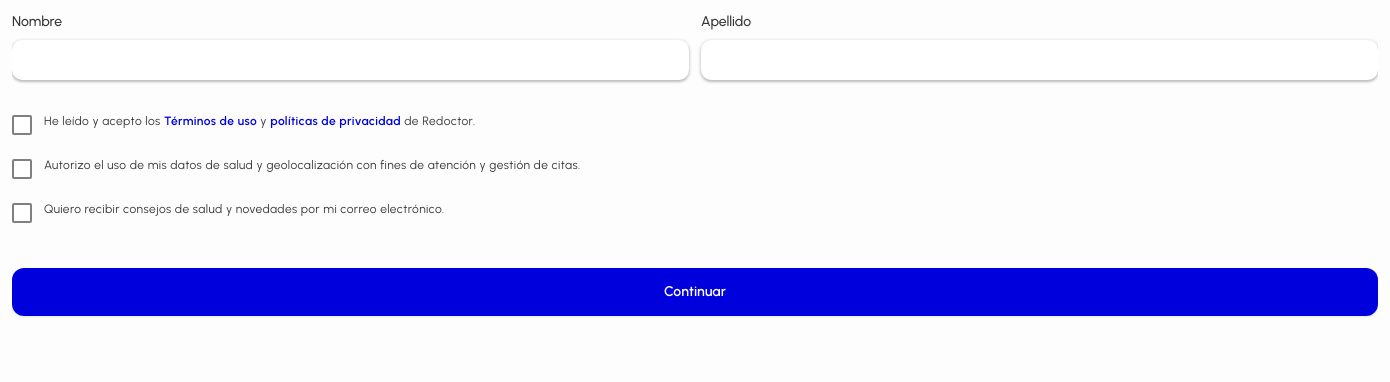
Scenario: PatientSignUpForm › says what is missing, field by field
Type "Ana2" into the field labelled "Nombre" at (350, 60), box [13, 41, 688, 79]
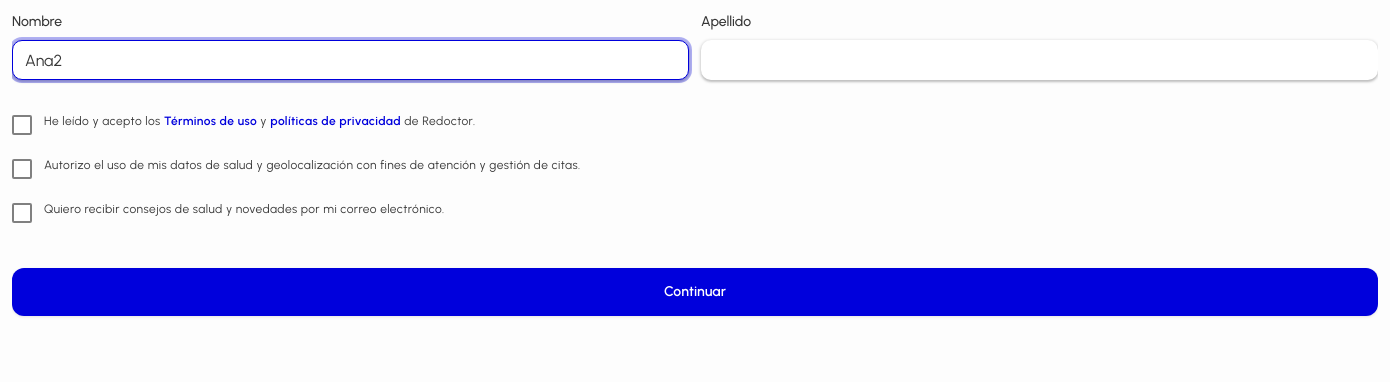
Click the button "Continuar" at (695, 292), box [12, 268, 1378, 316]
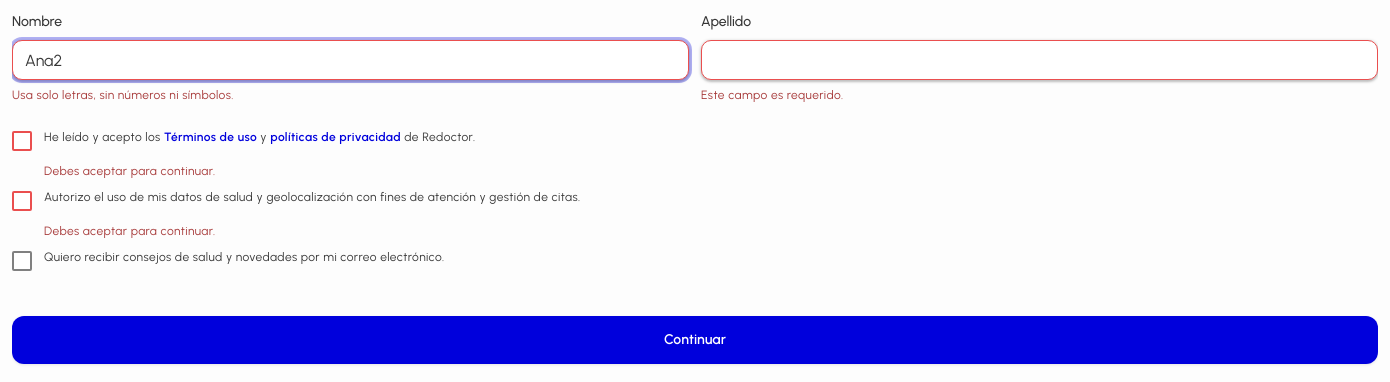
Expected: the text "Usa solo letras, sin números ni símbolos." is shown, [12, 88, 234, 102]
Expected: the text "Este campo es requerido." is shown, [701, 88, 844, 102]
Expected: the text "Debes aceptar para continuar." is shown 2 times, [44, 164, 216, 178]; [44, 224, 216, 238]
